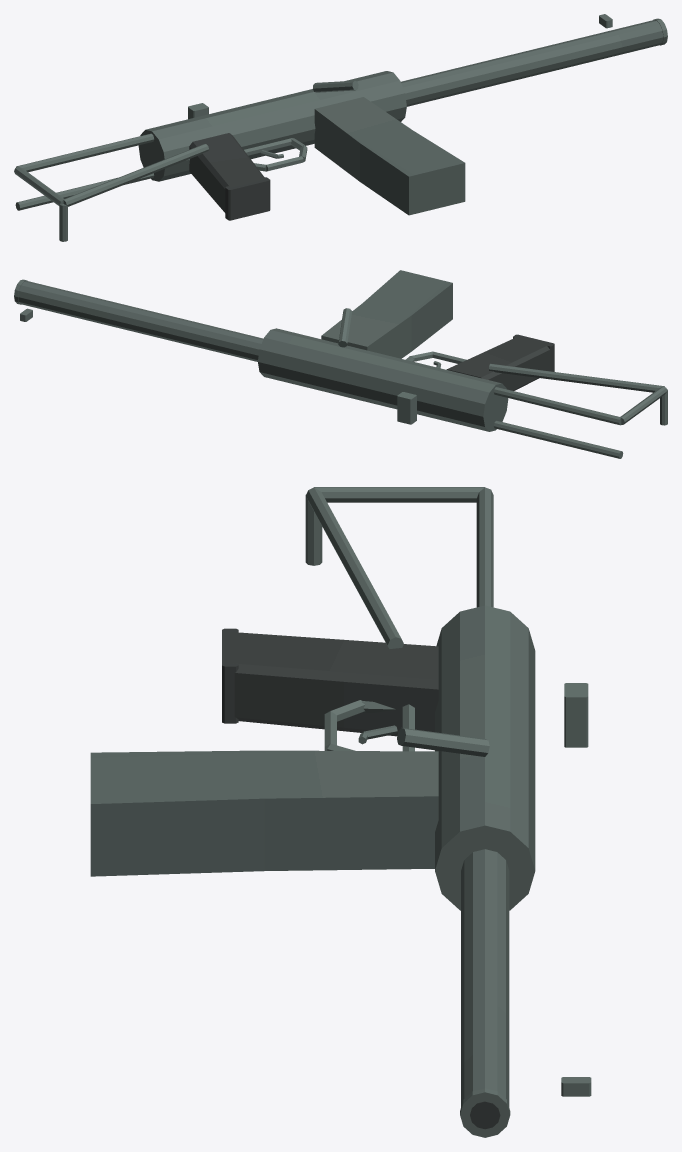
The model's file is weapon-pam1.glb.
3 views of the same model, one above another, from view 1: azimuth 30°, elevation 25°; view 2: azimuth 150°, elevation 25°; view 3: azimuth 270°, elevation 25° (orthographic). The views are drawn at different scales.
Parts seen in each view (by area): view 1: weapon-pam1/distinct-detachable-magazine, weapon-pam1/round-tubular-receiver, weapon-pam1/round-barrel, weapon-pam1/distinct-eight-sided-pistol-grip, weapon-pam1/distinct-eight-sided-pistol-grip-heel, weapon-pam1/open-wire-stock-3, weapon-pam1/open-wire-stock-1, weapon-pam1/far-wire-support-1, weapon-pam1/open-wire-stock-2, weapon-pam1/right-side-folded-handle-1; view 2: weapon-pam1/round-tubular-receiver, weapon-pam1/distinct-detachable-magazine, weapon-pam1/round-barrel, weapon-pam1/distinct-eight-sided-pistol-grip, weapon-pam1/open-wire-stock-3, weapon-pam1/far-wire-support-1, weapon-pam1/open-wire-stock-1, weapon-pam1/rear-sight, weapon-pam1/open-wire-stock-2, weapon-pam1/right-side-folded-handle-1; view 3: weapon-pam1/distinct-detachable-magazine, weapon-pam1/round-tubular-receiver, weapon-pam1/distinct-eight-sided-pistol-grip, weapon-pam1/round-barrel, weapon-pam1/open-wire-stock-3, weapon-pam1/open-wire-stock-2, weapon-pam1/open-wire-stock-1, weapon-pam1/right-side-folded-handle-1, weapon-pam1/rear-sight, weapon-pam1/round-barrel-end-rim, weapon-pam1/distinct-eight-sided-pistol-grip-heel, weapon-pam1/wire-butt-width-1.
Part boxes in pixels (bbox=[...]): weapon-pam1/distinct-detachable-magazine: bbox=[314, 97, 465, 215]; weapon-pam1/round-tubular-receiver: bbox=[138, 71, 406, 181]; weapon-pam1/round-barrel: bbox=[401, 20, 663, 106]; weapon-pam1/distinct-eight-sided-pistol-grip: bbox=[189, 133, 264, 212]; weapon-pam1/distinct-eight-sided-pistol-grip-heel: bbox=[225, 177, 270, 220]; weapon-pam1/open-wire-stock-3: bbox=[63, 144, 208, 206]; weapon-pam1/open-wire-stock-1: bbox=[16, 133, 154, 172]; weapon-pam1/far-wire-support-1: bbox=[15, 173, 154, 210]; weapon-pam1/open-wire-stock-2: bbox=[14, 166, 63, 205]; weapon-pam1/right-side-folded-handle-1: bbox=[313, 80, 358, 92]; weapon-pam1/round-tubular-receiver: bbox=[258, 328, 508, 431]; weapon-pam1/distinct-detachable-magazine: bbox=[321, 270, 452, 358]; weapon-pam1/round-barrel: bbox=[18, 281, 263, 361]; weapon-pam1/distinct-eight-sided-pistol-grip: bbox=[446, 336, 550, 390]; weapon-pam1/open-wire-stock-3: bbox=[488, 363, 664, 392]; weapon-pam1/far-wire-support-1: bbox=[494, 420, 623, 458]; weapon-pam1/open-wire-stock-1: bbox=[493, 387, 621, 425]; weapon-pam1/rear-sight: bbox=[397, 392, 416, 424]; weapon-pam1/open-wire-stock-2: bbox=[620, 386, 667, 424]; weapon-pam1/right-side-folded-handle-1: bbox=[338, 308, 351, 347]; weapon-pam1/distinct-detachable-magazine: bbox=[90, 750, 438, 876]; weapon-pam1/round-tubular-receiver: bbox=[435, 605, 535, 910]; weapon-pam1/distinct-eight-sided-pistol-grip: bbox=[230, 632, 438, 736]; weapon-pam1/round-barrel: bbox=[461, 849, 509, 1106]; weapon-pam1/open-wire-stock-3: bbox=[306, 487, 403, 648]; weapon-pam1/open-wire-stock-2: bbox=[314, 487, 484, 502]; weapon-pam1/open-wire-stock-1: bbox=[476, 487, 493, 607]; weapon-pam1/right-side-folded-handle-1: bbox=[397, 727, 489, 756]; weapon-pam1/rear-sight: bbox=[564, 683, 588, 747]; weapon-pam1/round-barrel-end-rim: bbox=[460, 1088, 510, 1137]; weapon-pam1/distinct-eight-sided-pistol-grip-heel: bbox=[222, 628, 238, 723]; weapon-pam1/wire-butt-width-1: bbox=[305, 494, 322, 565].
Bounding box in the file's own units: 0.751 × 0.0787 × 0.269.
2 materials, 2 textured.
